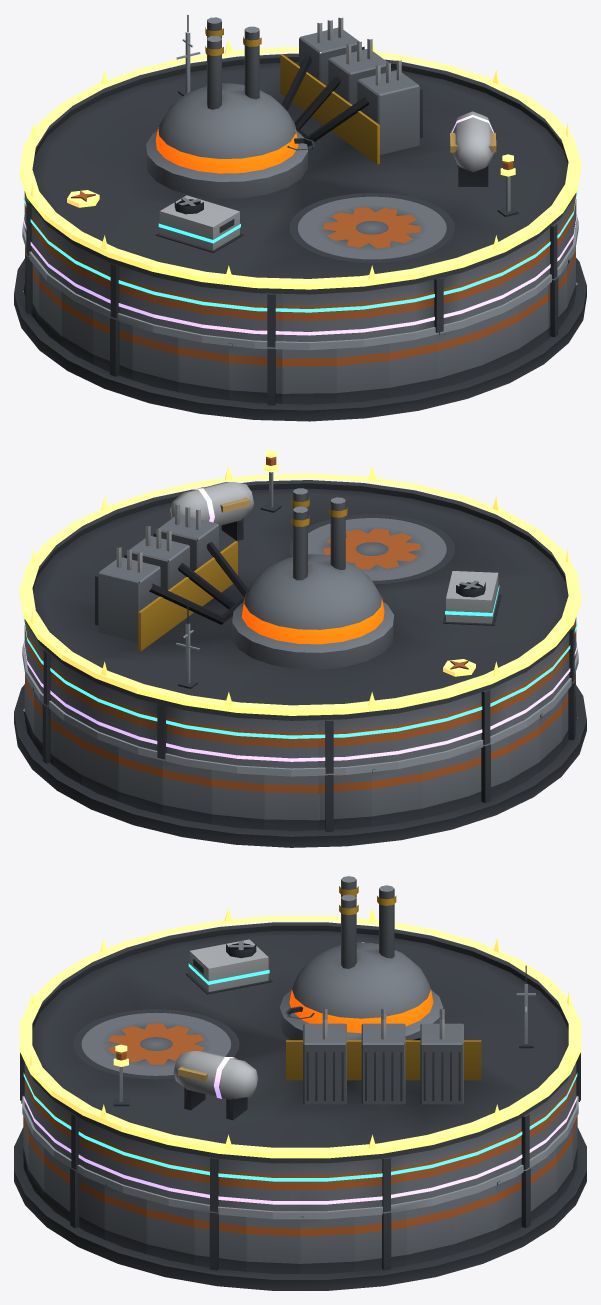
File: titanium_smelter_s_far.glb
3 renders of one model, top to bottom at view 1: azimuth 30°, elevation 25°; view 2: azimuth 150°, elevation 25°; view 3: azimuth 270°, elevation 25°, orthographic.
Visible parts, largest first — view 1: Roof, Base, L5, L3, L2, L4; view 2: Roof, Base, L5, L2, L4, L3; view 3: Roof, Base, L5, L4, L3, L2.
Part boxes in pixels (left/top/right/bottom): Roof: left=24, top=17, right=576, bottom=347; Base: left=14, top=246, right=586, bottom=421; L5: left=19, top=39, right=581, bottom=289; L3: left=23, top=138, right=577, bottom=312; L2: left=22, top=15, right=578, bottom=350; L4: left=23, top=111, right=577, bottom=335; Roof: left=24, top=480, right=576, bottom=773; Base: left=14, top=672, right=586, bottom=847; L5: left=19, top=450, right=581, bottom=715; L2: left=22, top=605, right=578, bottom=776; L4: left=23, top=482, right=577, bottom=761; L3: left=23, top=571, right=577, bottom=738; Roof: left=20, top=876, right=580, bottom=1212; Base: left=14, top=1100, right=586, bottom=1290; L5: left=19, top=907, right=581, bottom=1158; L4: left=23, top=1051, right=577, bottom=1204; L3: left=23, top=939, right=577, bottom=1181; L2: left=22, top=965, right=578, bottom=1219.
Bounding box in the file's own units: 11.74 × 5.88 × 11.74.
